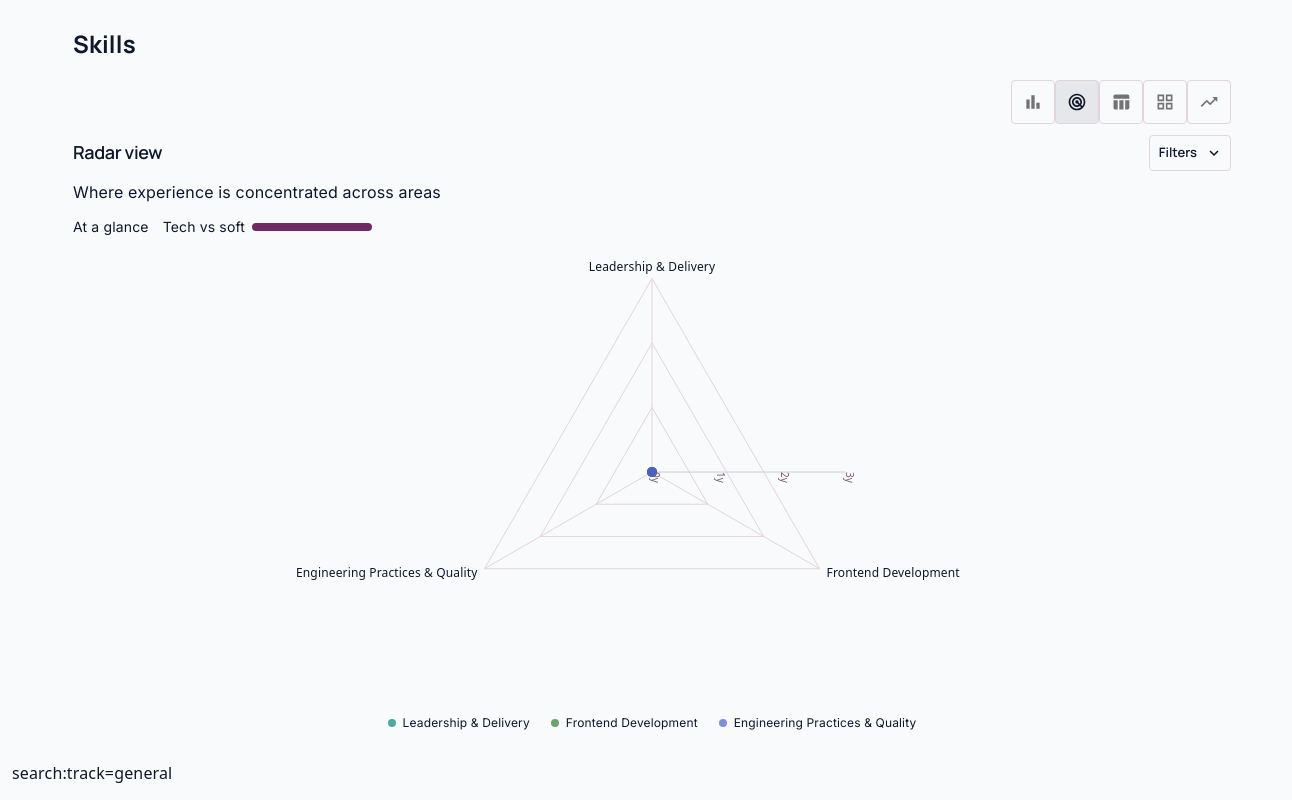
Skills › category filter URL sync › reflects a category filter selection as a URL query param, after the track
Click the button "Filters" at (1190, 153), box 1149,135 -> 1231,171
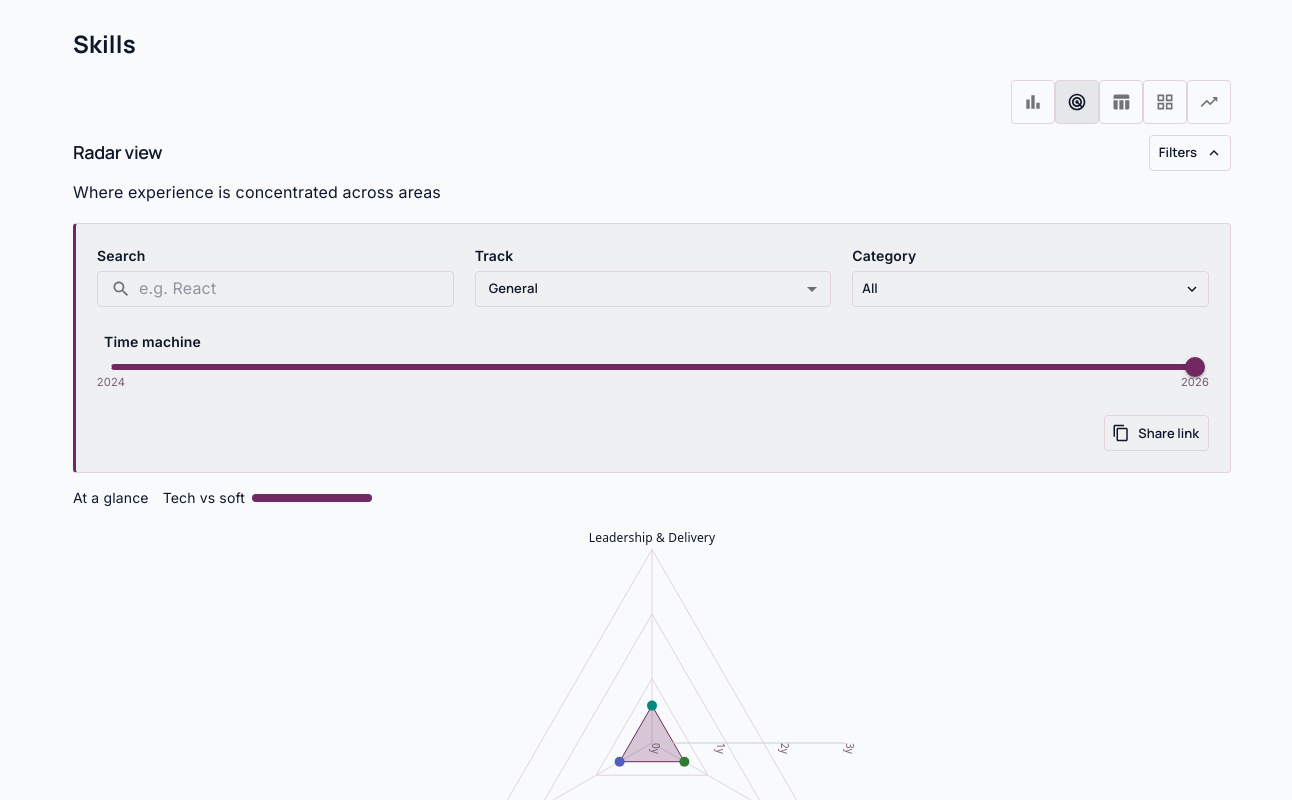
Click the button with aria-label "Filter skills by category, currently: All" at (870, 288), box 852,271 -> 1209,307
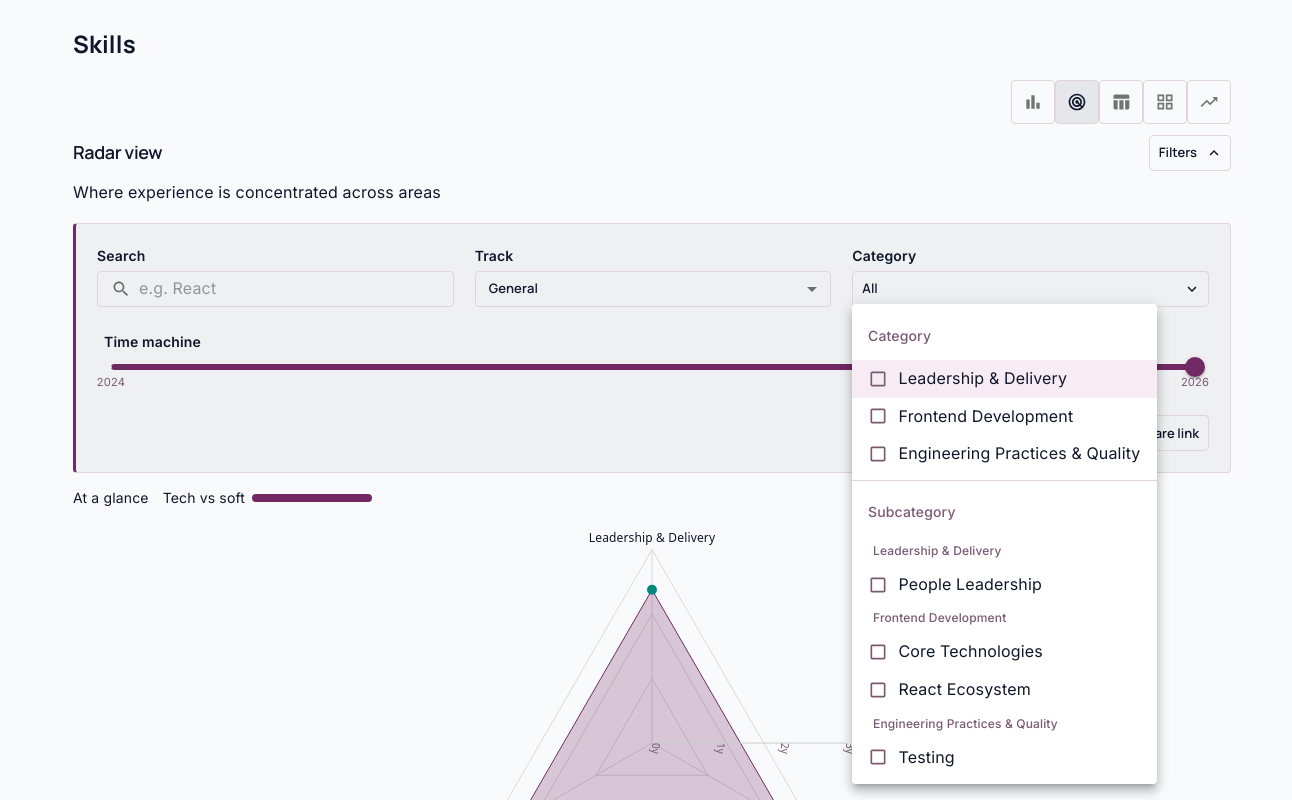
Click the menu item "Leadership & Delivery" at (1004, 379), box 852,360 -> 1156,398
(page scrolled)
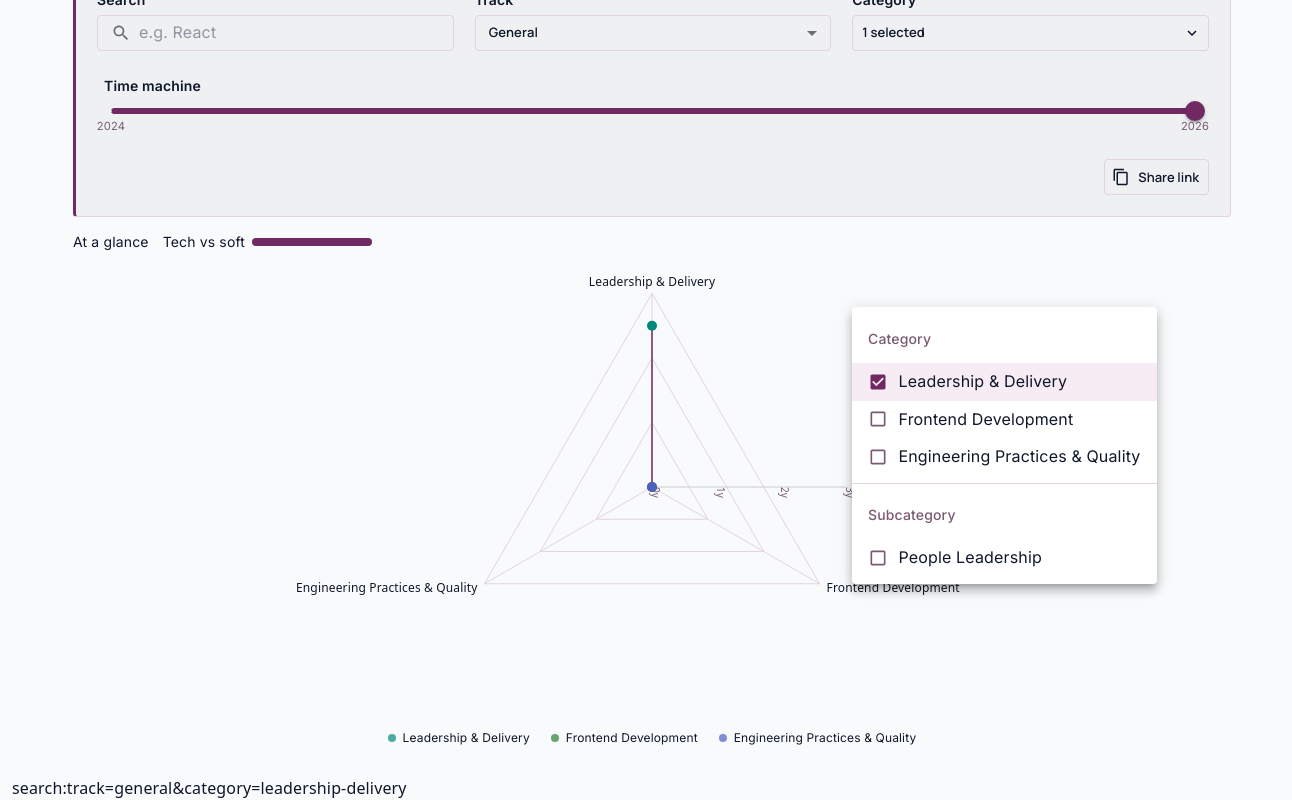
Result: the text "search:track=general&category=leadership-delivery" is shown at 12,777 -> 407,799
